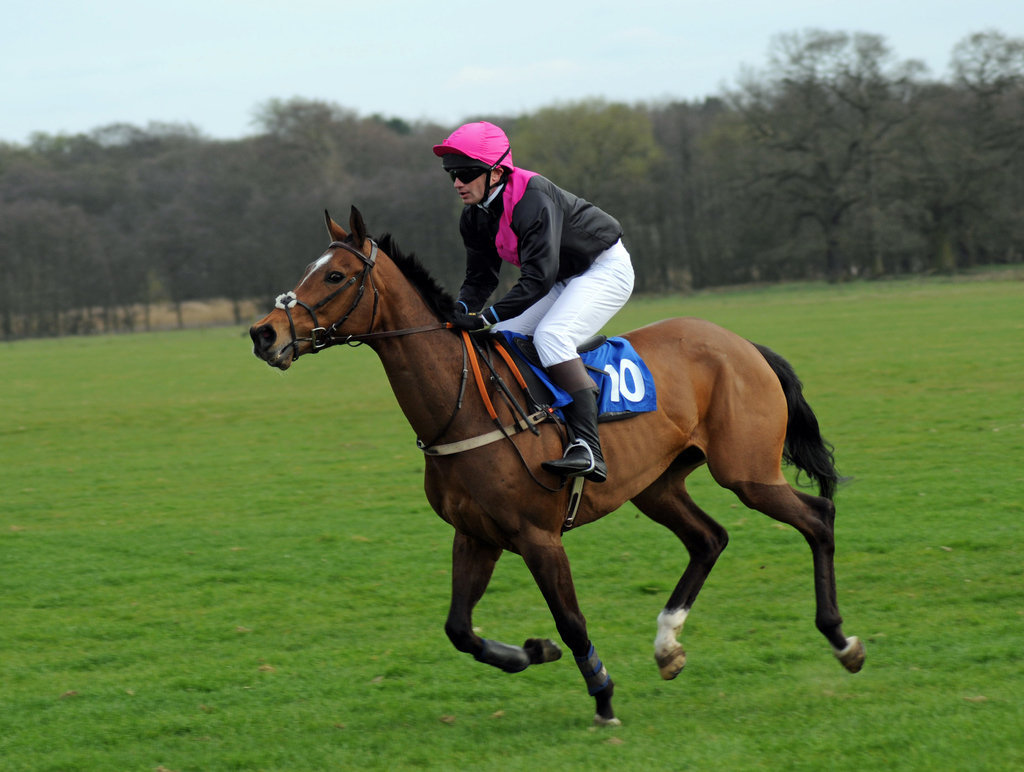horse: (249, 204, 866, 732)
